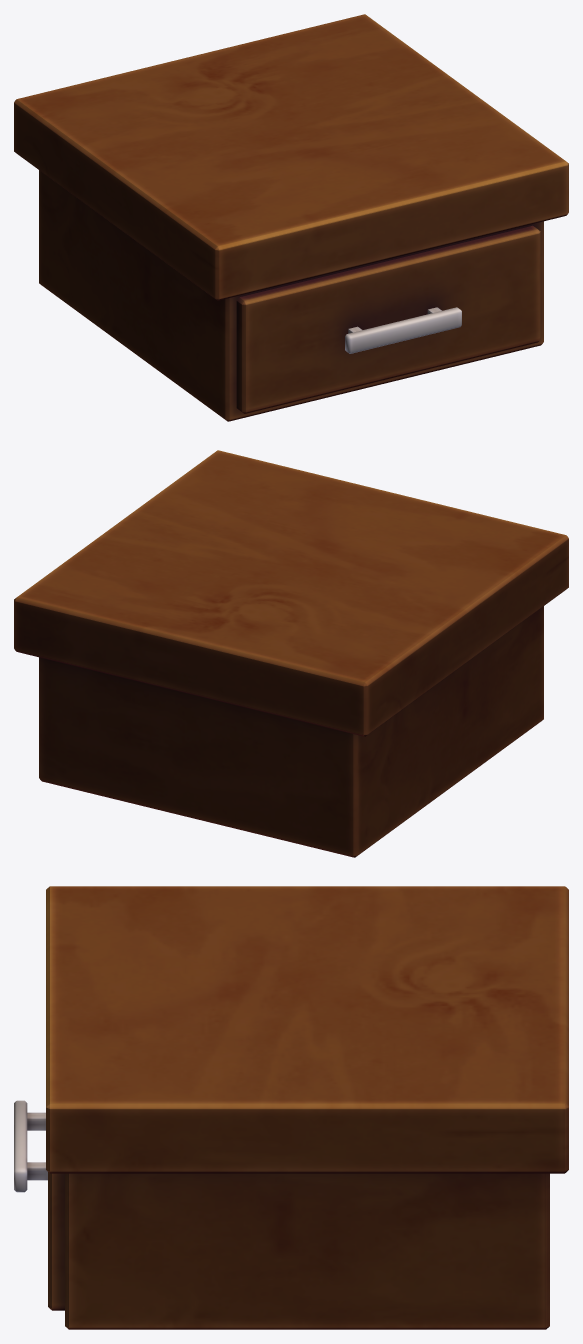
The model's file is drawerTable.gltf.
3 renders of one model, top to bottom at view 1: azimuth 30°, elevation 25°; view 2: azimuth 150°, elevation 25°; view 3: azimuth 270°, elevation 25°, orthographic. The views are drawn at different scales.
Parts seen in each view (by area): view 1: Object_3; view 2: Object_3; view 3: Object_3.
Boxes of the visible parts, x1,y1,x2,y2 form: Object_3: (14,14,568,421); Object_3: (14,450,568,857); Object_3: (14,886,568,1329).
Size of the model in its own units: 2 by 1 by 2.12.
1 material, 1 textured.
